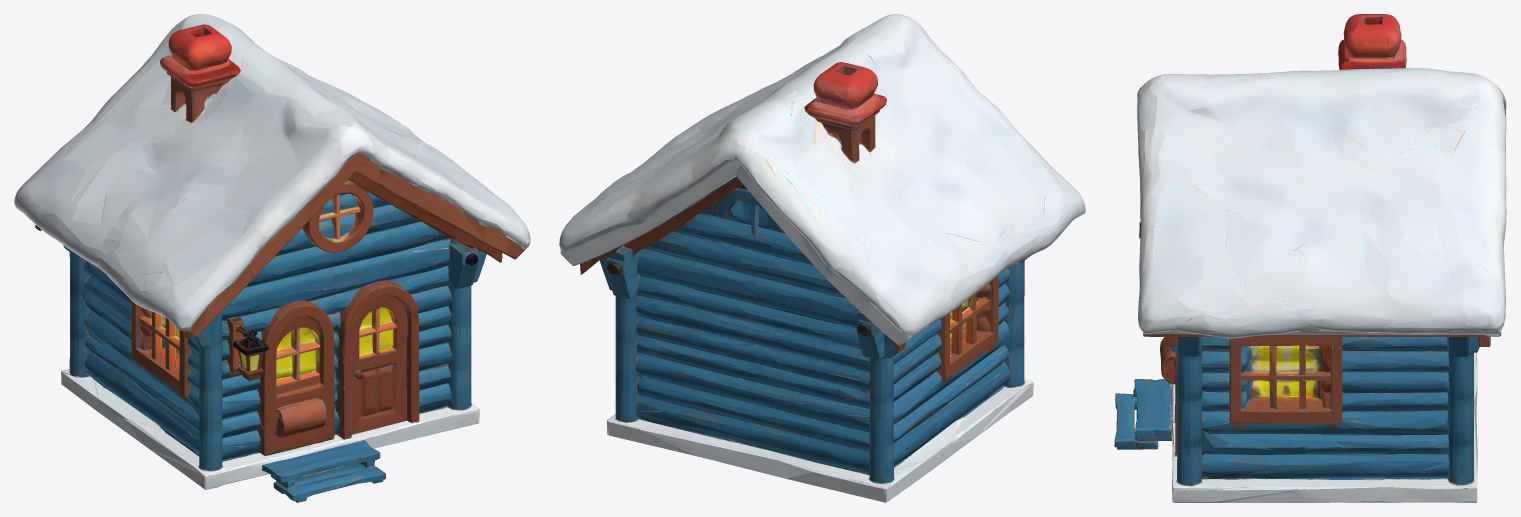
The model's file is cottage.glb.
The picture shows the model from 3 angles, left to right: view 1: azimuth 30°, elevation 25°; view 2: azimuth 150°, elevation 25°; view 3: azimuth 270°, elevation 25°; orthographic projection. The views are drawn at different scales.
Bounding box in the file's own units: 1.9 × 1.87 × 1.67.
1 material, 1 textured.
